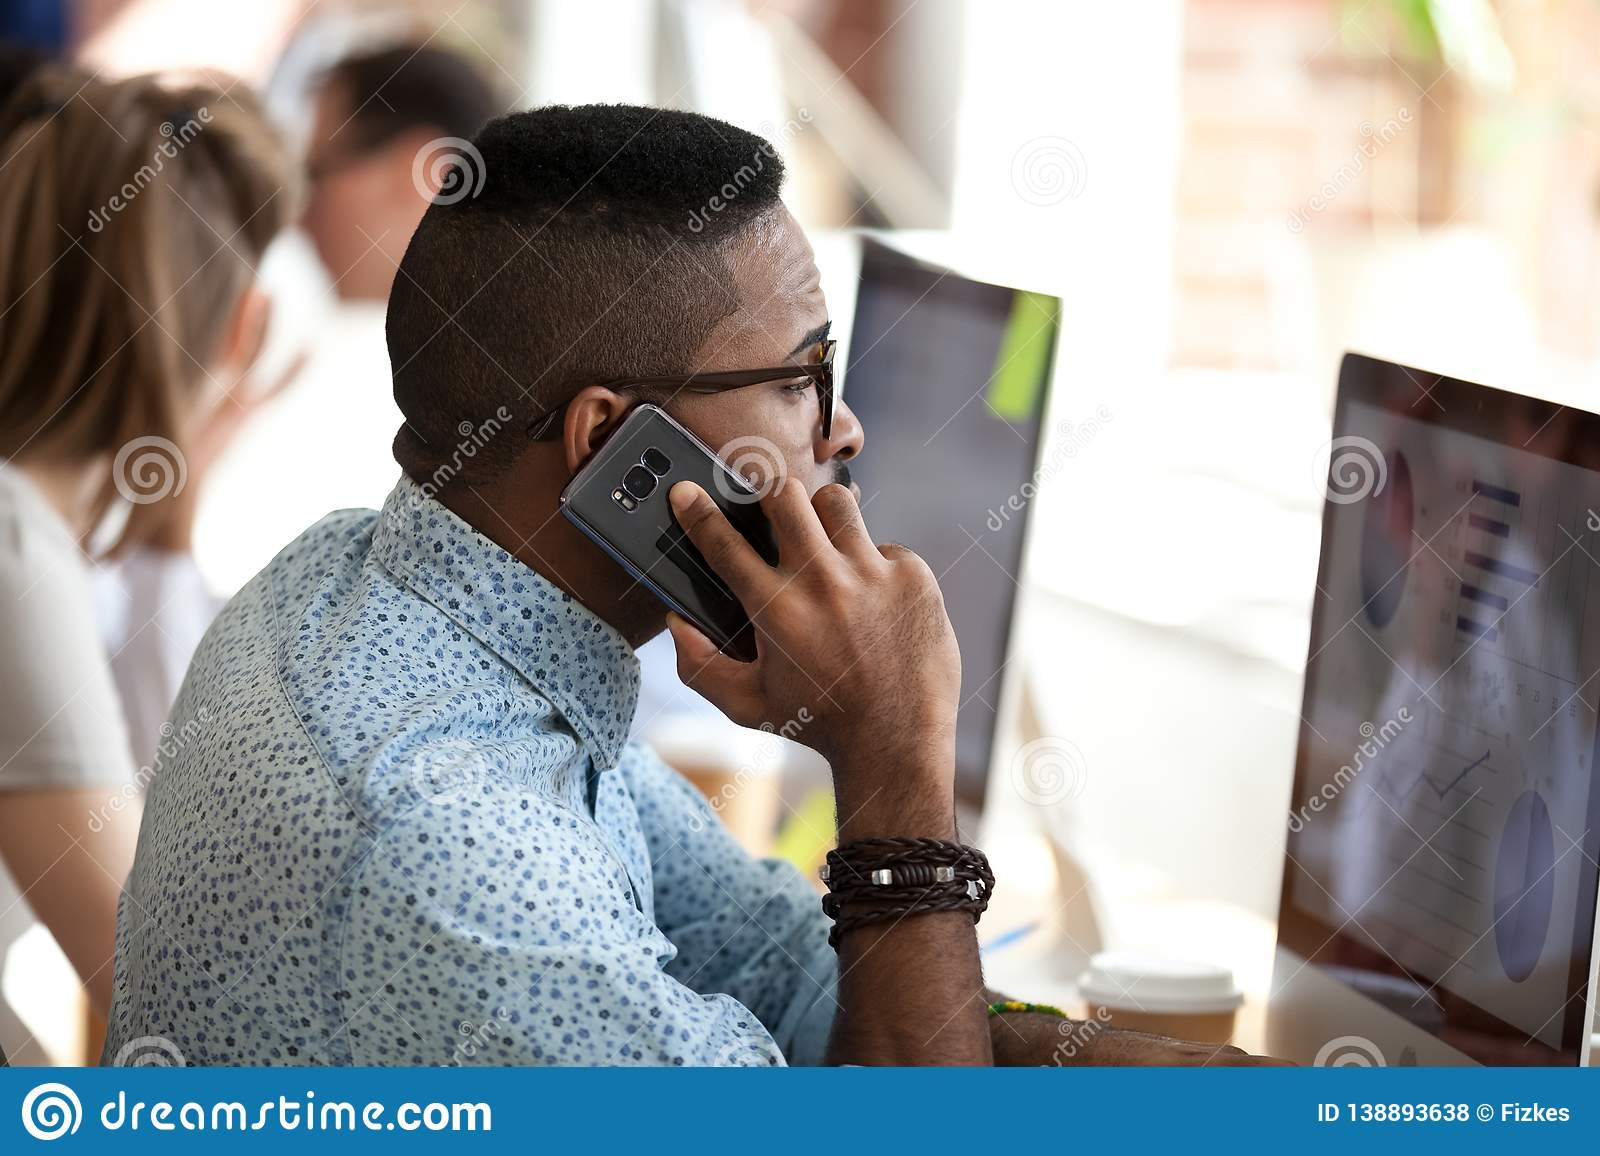phone: (561, 397, 821, 664)
talk: (559, 292, 969, 796)
